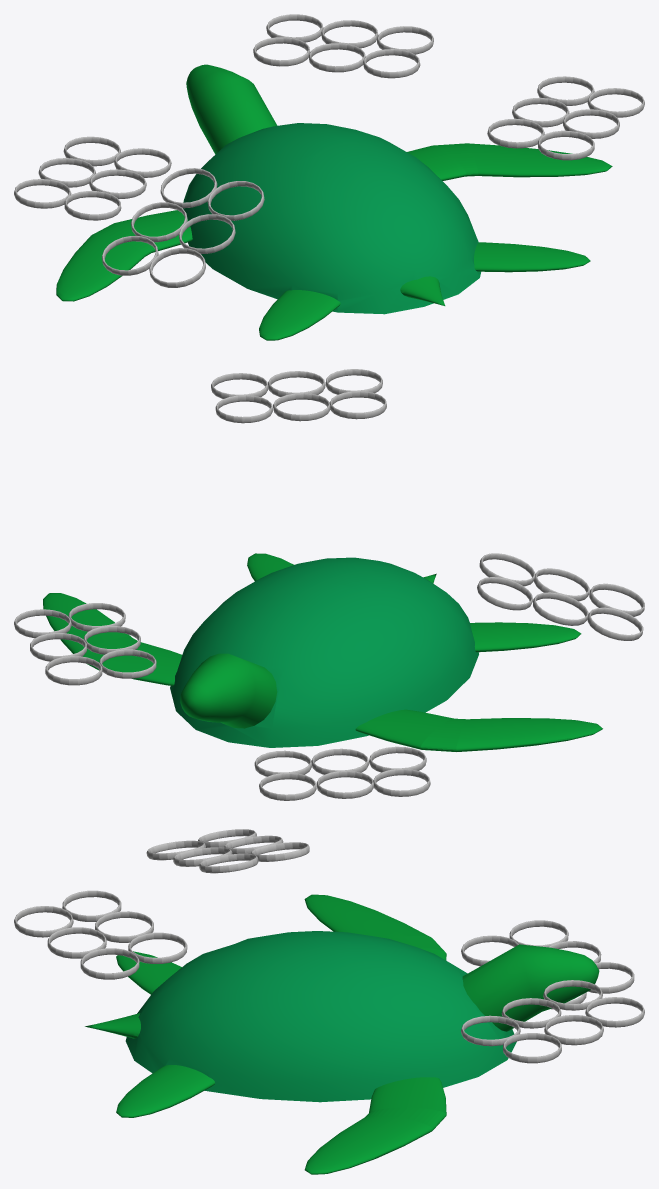
File: AnnaTurtle.gltf
3 views of the same model, one above another, from view 1: azimuth 30°, elevation 25°; view 2: azimuth 150°, elevation 25°; view 3: azimuth 270°, elevation 25° (orthographic). The views are drawn at different scales.
Parts seen in each view (by area): view 1: AnnaTurtle.005; view 2: AnnaTurtle.005; view 3: AnnaTurtle.005.
Boxes of the visible parts, <box> form: AnnaTurtle.005: <box>14,14,644,340</box>; AnnaTurtle.005: <box>14,369,644,800</box>; AnnaTurtle.005: <box>14,829,644,1174</box>.
Size of the model in its own units: 16.88 by 5 by 16.12.
